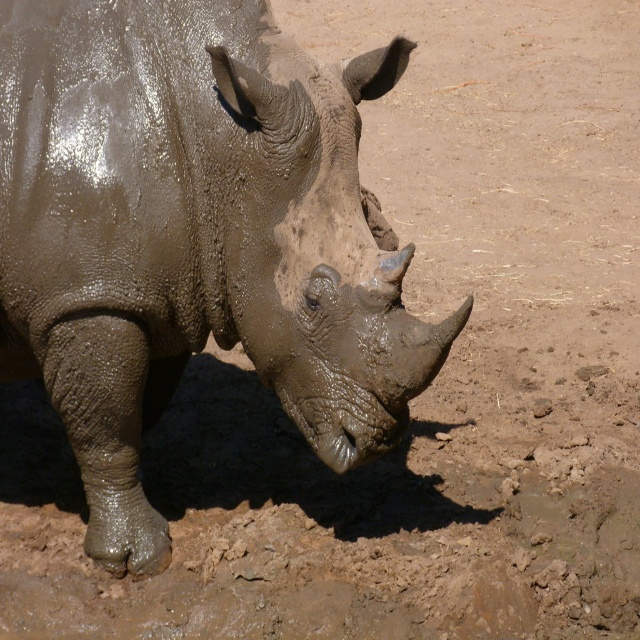Rhinoceros: (0, 0, 471, 588)
